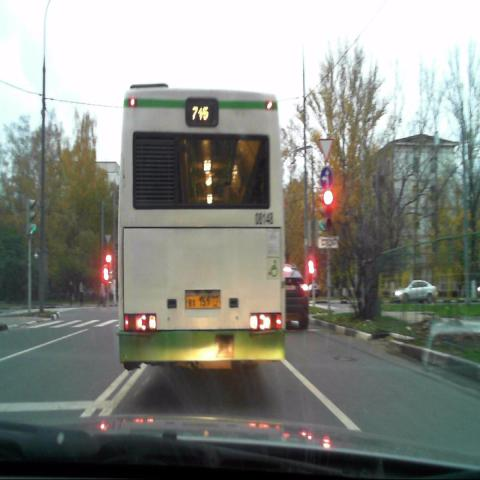4_1_5: (320, 167, 333, 189)
